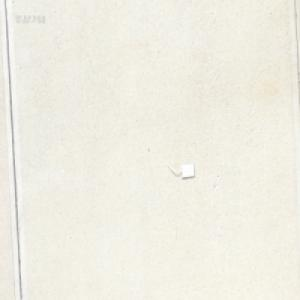LuggageTag: (166, 162, 194, 178)
